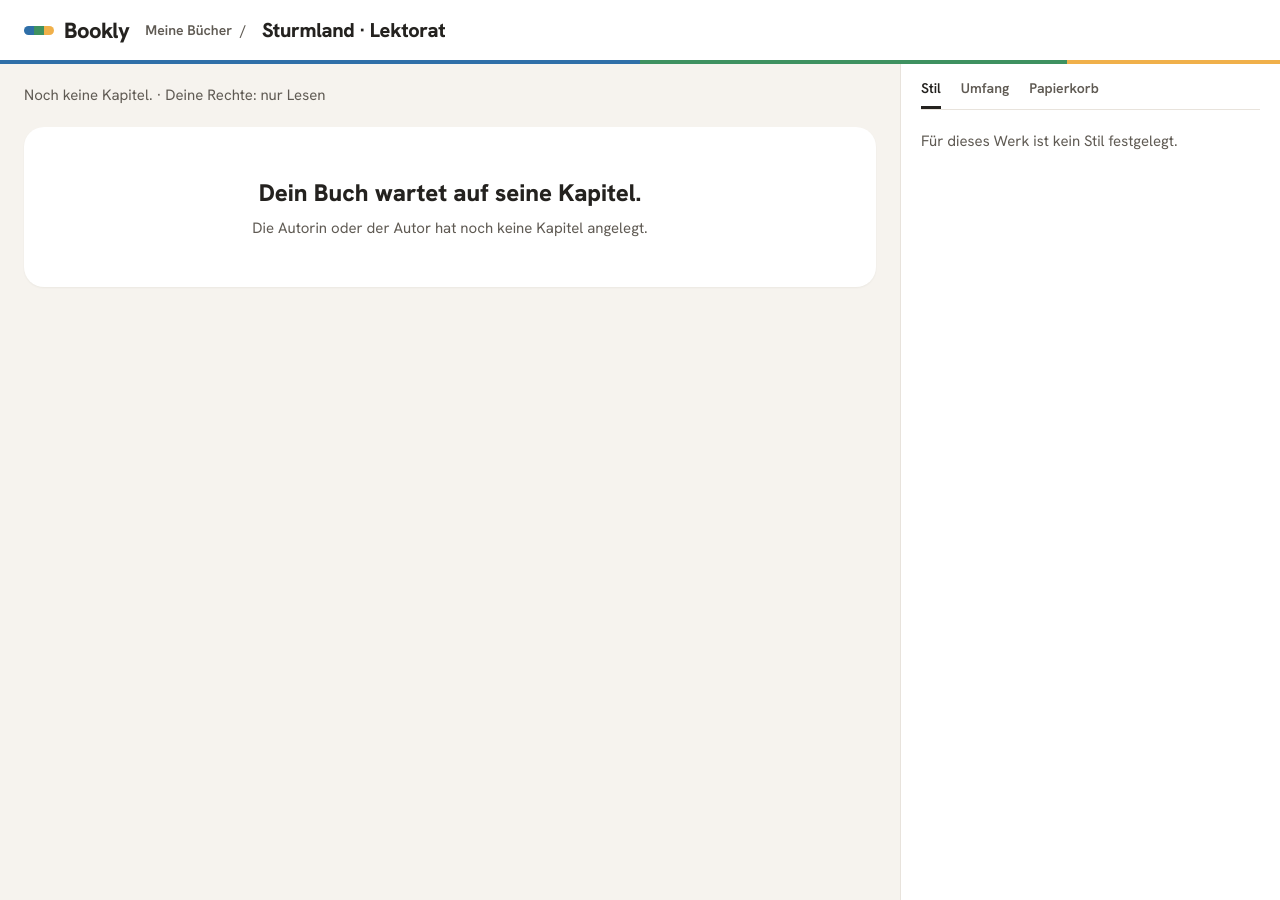
Test: LengthPanel › shows reviewers the range read-only
Step 1. Click the tab "Umfang" → {"x": 985, "y": 88}, box top-left (961, 68), bottom-right (1009, 109)
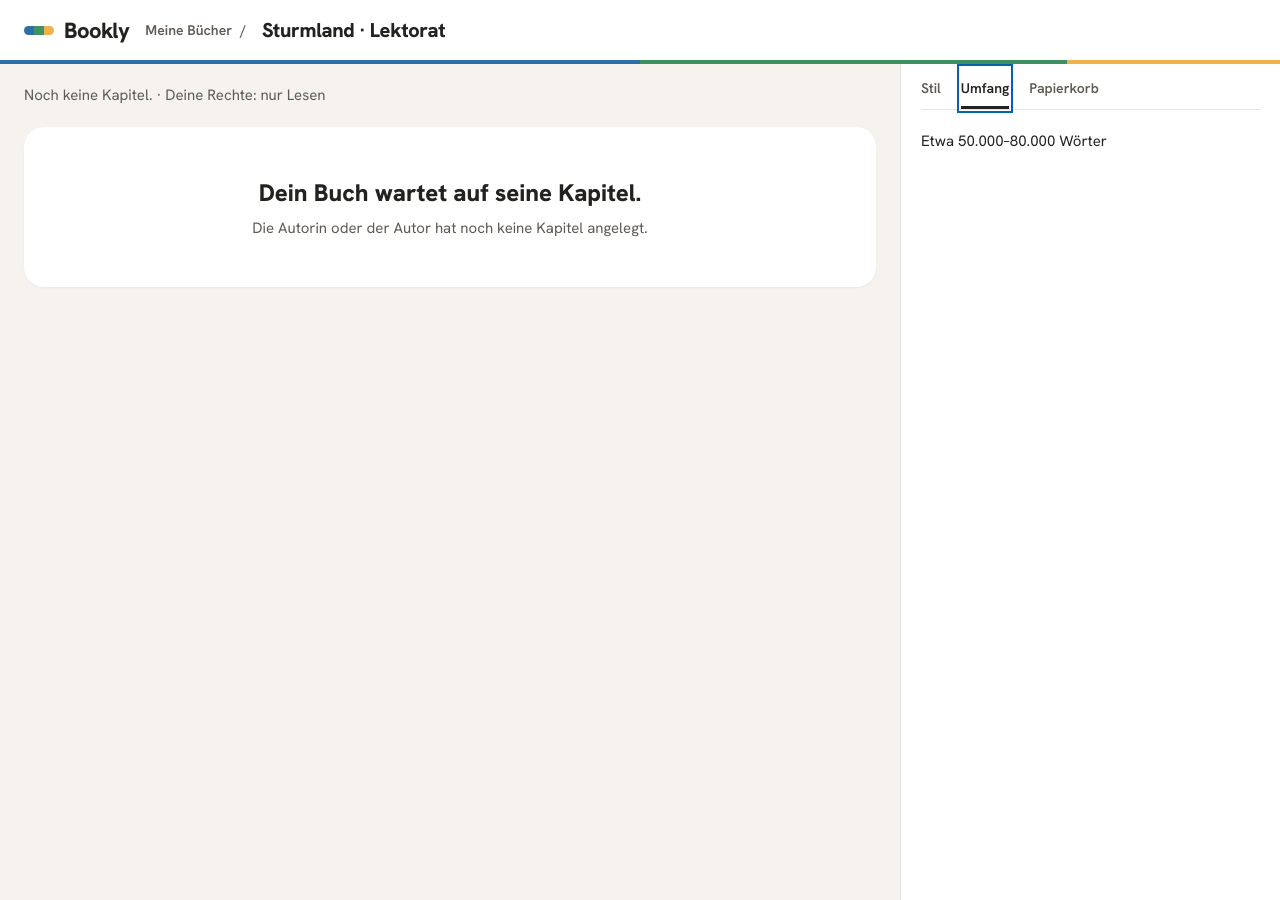
Expected: the text "Etwa 50.000–80.000 Wörter" is shown, top-left (921, 131), bottom-right (1107, 151)
